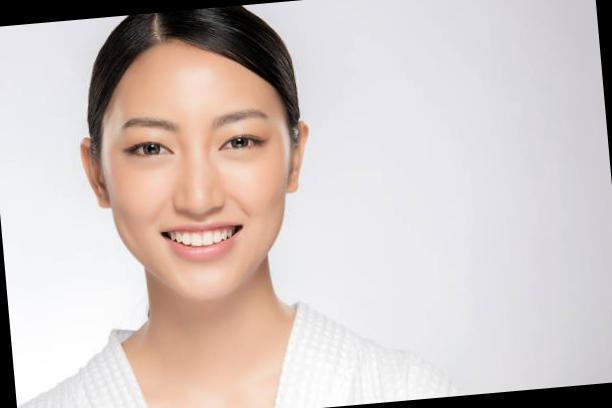Sober: (108, 66, 286, 281)
